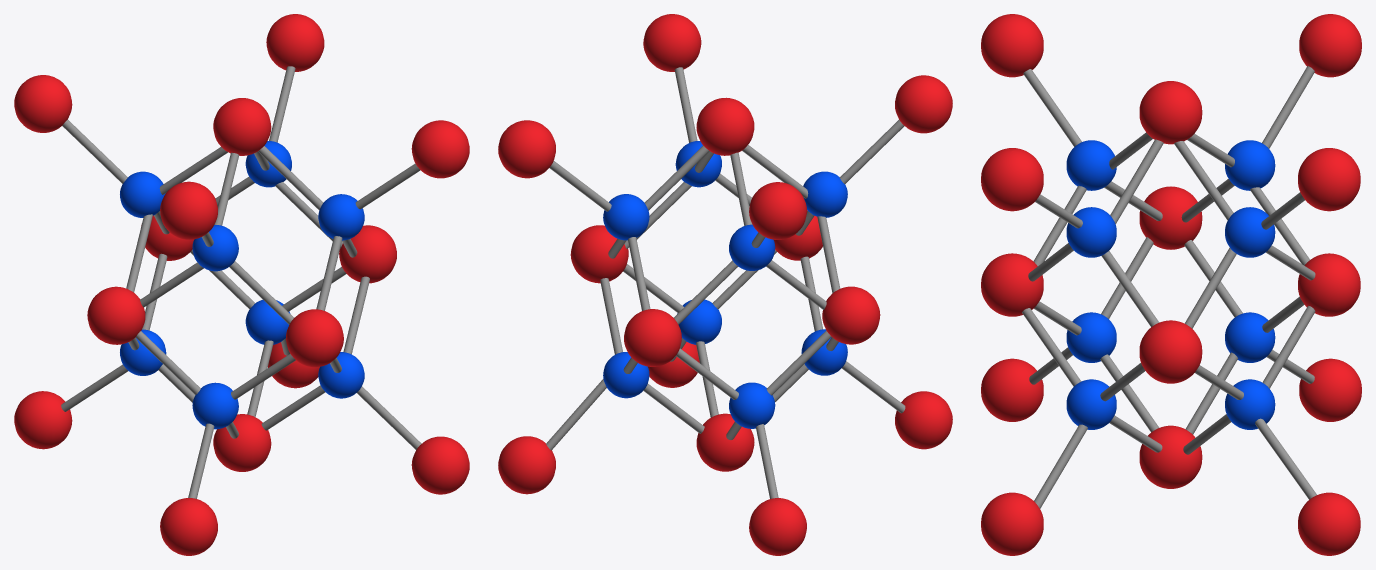
3 renders of one model, left to right at view 1: azimuth 30°, elevation 25°; view 2: azimuth 150°, elevation 25°; view 3: azimuth 270°, elevation 25°, orthographic. The views are drawn at different scales.
Parts seen in each view (by area): view 1: Сферы_Node (×20), Цилиндр_Node (×21), Сферы_Node001, Сферы_Node002; view 2: Сферы_Node (×20), Цилиндр_Node (×20), Сферы_Node001, Сферы_Node002; view 3: Сферы_Node (×20), Цилиндр_Node (×30), Сферы_Node001, Сферы_Node002.
Boxes of the visible parts, x1,y1,x2,y2 form: Сферы_Node (×20): [14, 14, 469, 555]; Цилиндр_Node (×21): [61, 66, 421, 498]; Сферы_Node001: [213, 98, 271, 155]; Сферы_Node002: [213, 414, 271, 471]; Сферы_Node (×20): [498, 14, 952, 555]; Цилиндр_Node (×20): [546, 67, 905, 498]; Сферы_Node001: [696, 97, 754, 155]; Сферы_Node002: [696, 413, 754, 471]; Сферы_Node (×20): [981, 14, 1361, 555]; Цилиндр_Node (×30): [1022, 66, 1316, 508]; Сферы_Node001: [1139, 81, 1202, 144]; Сферы_Node002: [1139, 425, 1202, 488].
Bounding box in the file's own units: 4.72 × 5.51 × 4.73.
Materials: 33 (2 with a texture image).
